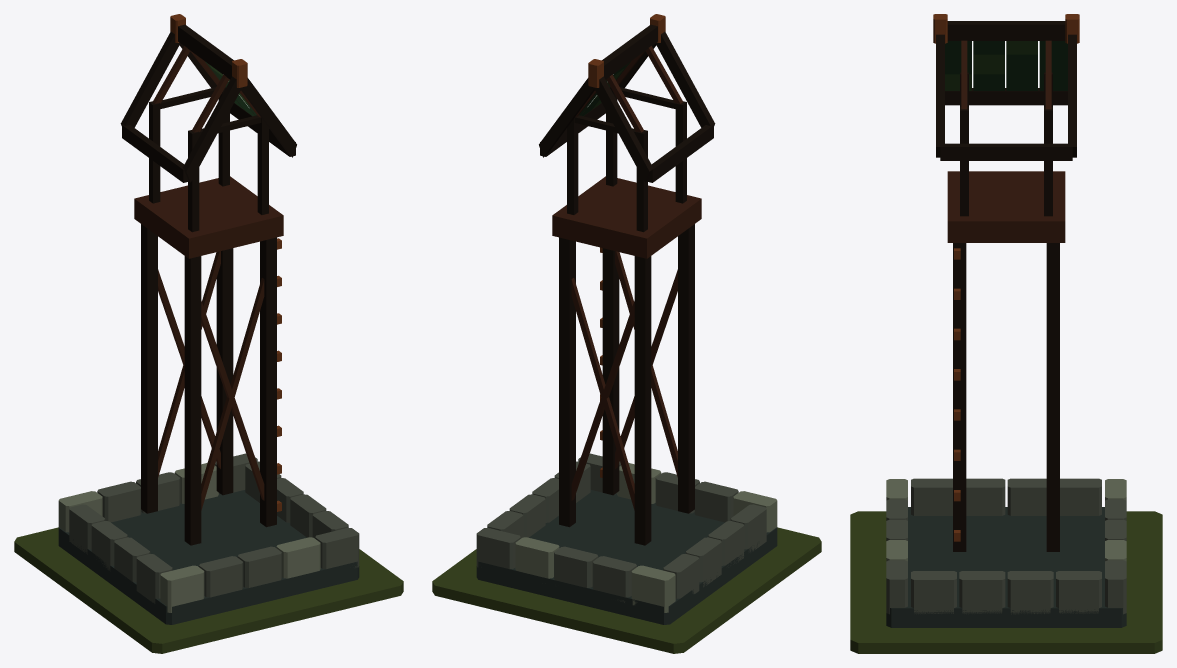
Rendered from tower_t2.glb.
The picture shows the model from 3 angles, left to right: view 1: azimuth 30°, elevation 25°; view 2: azimuth 150°, elevation 25°; view 3: azimuth 270°, elevation 25°; orthographic projection. The views are drawn at different scales.
Visible parts, largest first — view 1: MMR | tower | T02 Architecture.001, MMR | tower | Tier 02 Ground.001, MMR | tower | T02 Roof Supports.001; view 2: MMR | tower | T02 Architecture.001, MMR | tower | Tier 02 Ground.001, MMR | tower | T02 Roof Supports.001; view 3: MMR | tower | T02 Architecture.001, MMR | tower | Tier 02 Ground.001, MMR | tower | T02 Roof Supports.001.
Part boxes in pixels (x1,y1,x2,y2): MMR | tower | T02 Architecture.001: (58,14,359,624); MMR | tower | Tier 02 Ground.001: (14,527,403,653); MMR | tower | T02 Roof Supports.001: (149,46,268,232); MMR | tower | T02 Architecture.001: (476,14,777,624); MMR | tower | Tier 02 Ground.001: (432,527,821,653); MMR | tower | T02 Roof Supports.001: (567,46,686,232); MMR | tower | T02 Architecture.001: (886,14,1126,627); MMR | tower | Tier 02 Ground.001: (850,511,1162,653); MMR | tower | T02 Roof Supports.001: (960,40,1052,216).
Size of the model in its own units: 1.3 by 2.63 by 1.3.
Materials: 1 (1 with a texture image).
